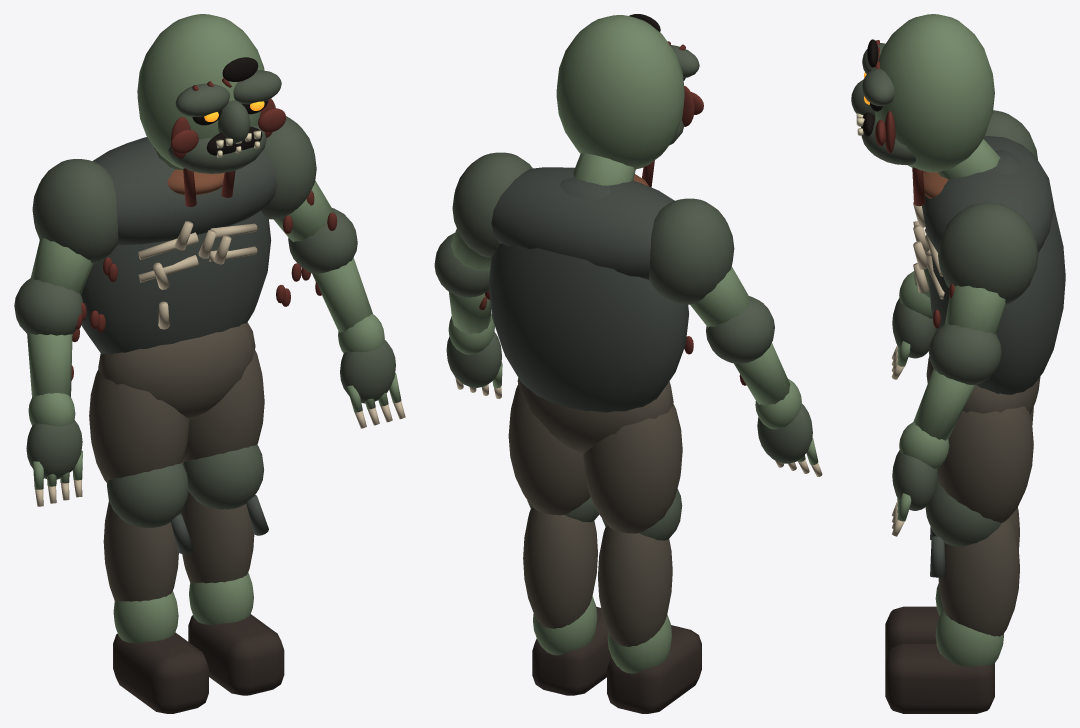
The model's file is zombie.fbx.
3 renders of one model, left to right at view 1: azimuth 30°, elevation 25°; view 2: azimuth 150°, elevation 25°; view 3: azimuth 270°, elevation 25°, orthographic.
Parts seen in each view (by area): view 1: Ragged shirt torso.002, Shoulder mass.002, Deformed skull.002, Pelvis.002, L_thigh.002, L_shoulder.002, L_boot.002, R_boot.002, L_shin.002, R_shin.002, R_thigh.002, L_knee.002 (+21 smaller); view 2: Ragged shirt torso.002, Deformed skull.002, Shoulder mass.002, L_thigh.002, L_shin.002, R_shin.002, L_shoulder.002, R_thigh.002, L_boot.002, R_shoulder.002, Pelvis.002, R_boot.002 (+14 smaller); view 3: Deformed skull.002, Ragged shirt torso.002, R_thigh.002, R_shoulder.002, R_shin.002, Shoulder mass.002, R_boot.002, R_elbow.002, R_knee.002, R_forearm.002, R_ankle.002, R_upper_arm.002 (+15 smaller).
Part boxes in pixels (x1,y1,x2,y2): Ragged shirt torso.002: (81, 137, 271, 354); Shoulder mass.002: (92, 137, 277, 245); Deformed skull.002: (137, 14, 264, 168); Pelvis.002: (98, 322, 255, 419); L_thigh.002: (89, 369, 189, 483); L_shoulder.002: (32, 159, 118, 264); L_boot.002: (113, 632, 208, 713); R_boot.002: (188, 614, 284, 695); L_shin.002: (103, 501, 178, 601); R_shin.002: (180, 491, 254, 583); R_thigh.002: (182, 350, 264, 464); L_knee.002: (107, 463, 188, 527); Ragged shirt torso.002: (488, 177, 688, 412); Deformed skull.002: (556, 15, 684, 169); Shoulder mass.002: (491, 167, 674, 279); L_thigh.002: (583, 404, 682, 533); L_shin.002: (598, 526, 672, 646); R_shin.002: (523, 507, 597, 628); L_shoulder.002: (649, 198, 734, 304); R_thigh.002: (508, 384, 590, 515); L_boot.002: (607, 625, 701, 713); R_shoulder.002: (452, 152, 532, 258); Pelvis.002: (517, 378, 673, 453); R_boot.002: (532, 607, 611, 695); Deformed skull.002: (875, 14, 994, 172); Ragged shirt torso.002: (928, 149, 1065, 394); R_thigh.002: (937, 406, 1033, 523); R_shoulder.002: (938, 202, 1038, 304); R_shin.002: (938, 517, 1019, 636); Shoulder mass.002: (922, 136, 1054, 252); R_boot.002: (885, 643, 994, 713); R_elbow.002: (929, 323, 1001, 385); R_knee.002: (925, 477, 1001, 546); R_forearm.002: (913, 369, 975, 440); R_ankle.002: (935, 609, 1003, 666); R_upper_arm.002: (945, 285, 1005, 334).
Size of the model in its own units: 121 by 212 by 61.44.
